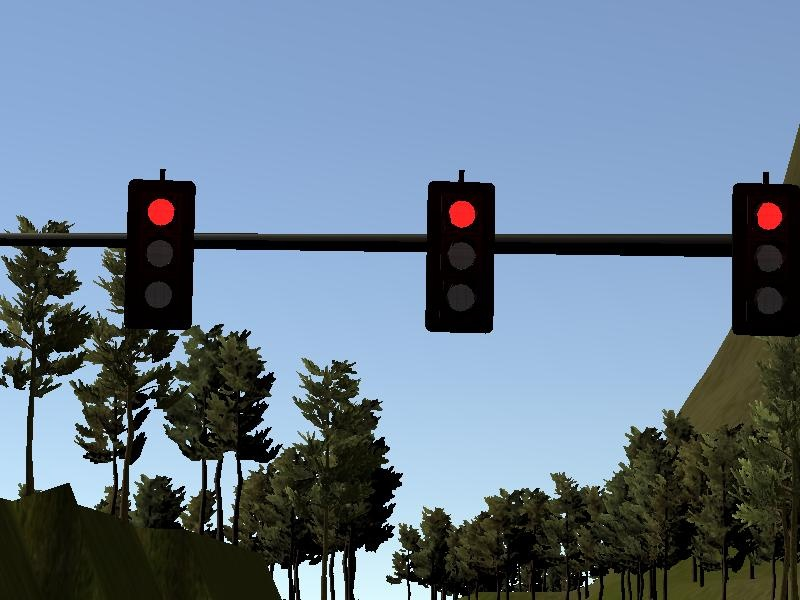red: (421, 173, 498, 338), (730, 176, 799, 342), (124, 177, 193, 331)
